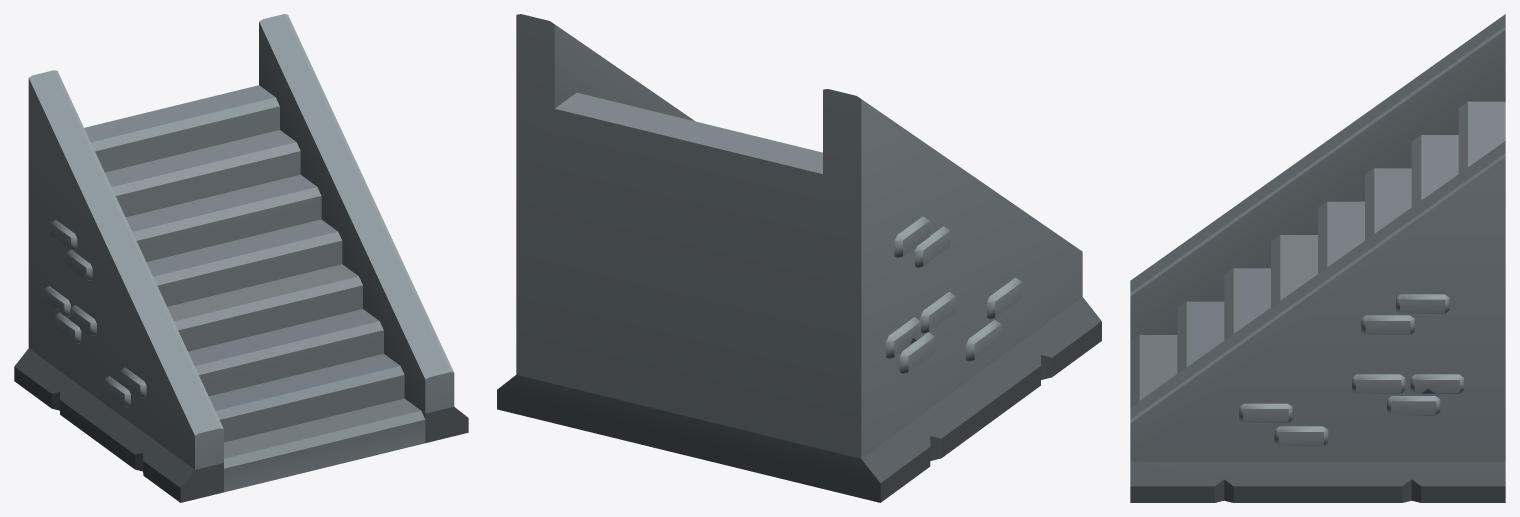
Rendered from stairs.glb.
3 renders of one model, left to right at view 1: azimuth 30°, elevation 25°; view 2: azimuth 150°, elevation 25°; view 3: azimuth 270°, elevation 25°, orthographic. The views are drawn at different scales.
Visible parts, largest first — view 1: stairs; view 2: stairs; view 3: stairs.
Part boxes in pixels (<box>): stairs: <box>14,14,468,502</box>; stairs: <box>497,14,1101,502</box>; stairs: <box>1130,14,1505,502</box>.
Bounding box in the file's own units: 1 × 1 × 1.
Materials: 1 (1 with a texture image).
